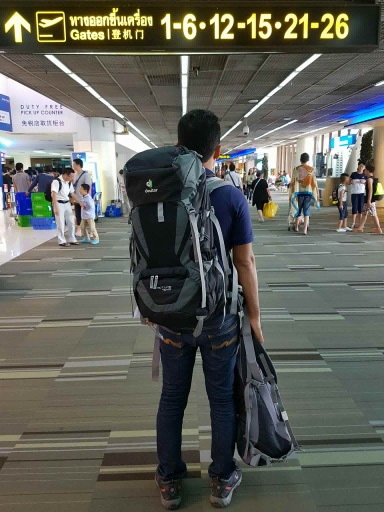backpack: (118, 143, 240, 334), (42, 176, 61, 200), (369, 177, 384, 202), (328, 188, 342, 207)
plastic bag: (261, 197, 280, 220)
shoulder bag: (231, 315, 301, 469)
